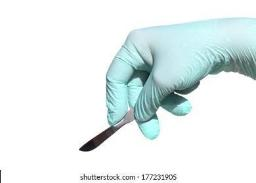scalpel: (78, 108, 138, 152)
